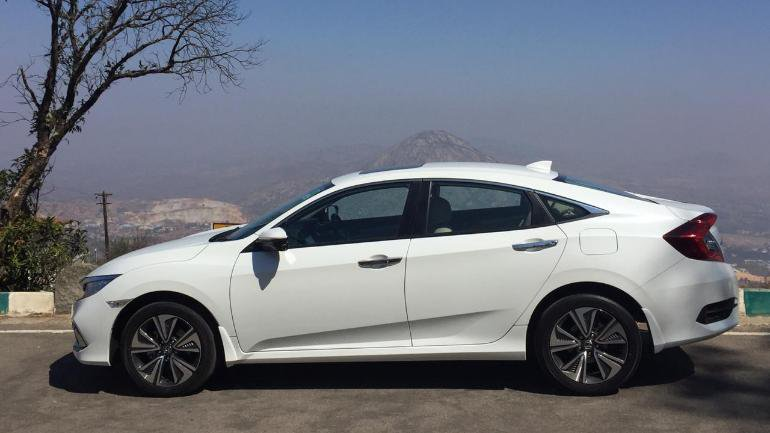car: (72, 151, 741, 409)
